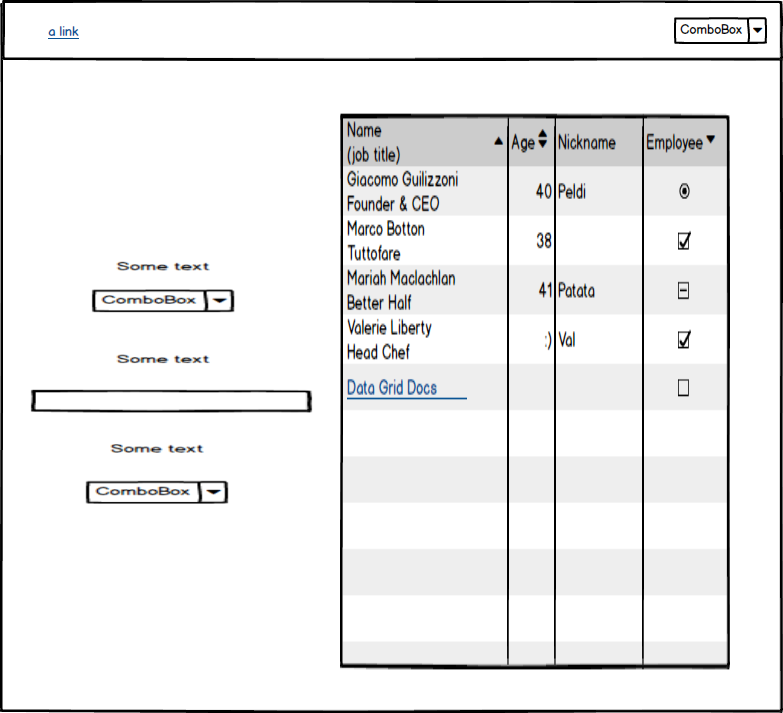input: (24, 385, 319, 418)
label: (103, 429, 220, 462), (115, 343, 217, 369), (106, 254, 217, 276)
navlink: (37, 16, 92, 46)
select_box: (82, 475, 236, 507), (671, 13, 771, 48)
table: (331, 107, 736, 672)
